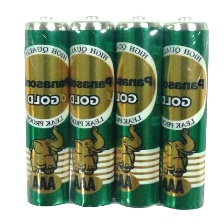battery: (156, 14, 211, 214), (112, 14, 168, 210), (21, 13, 73, 207), (67, 13, 118, 210)
